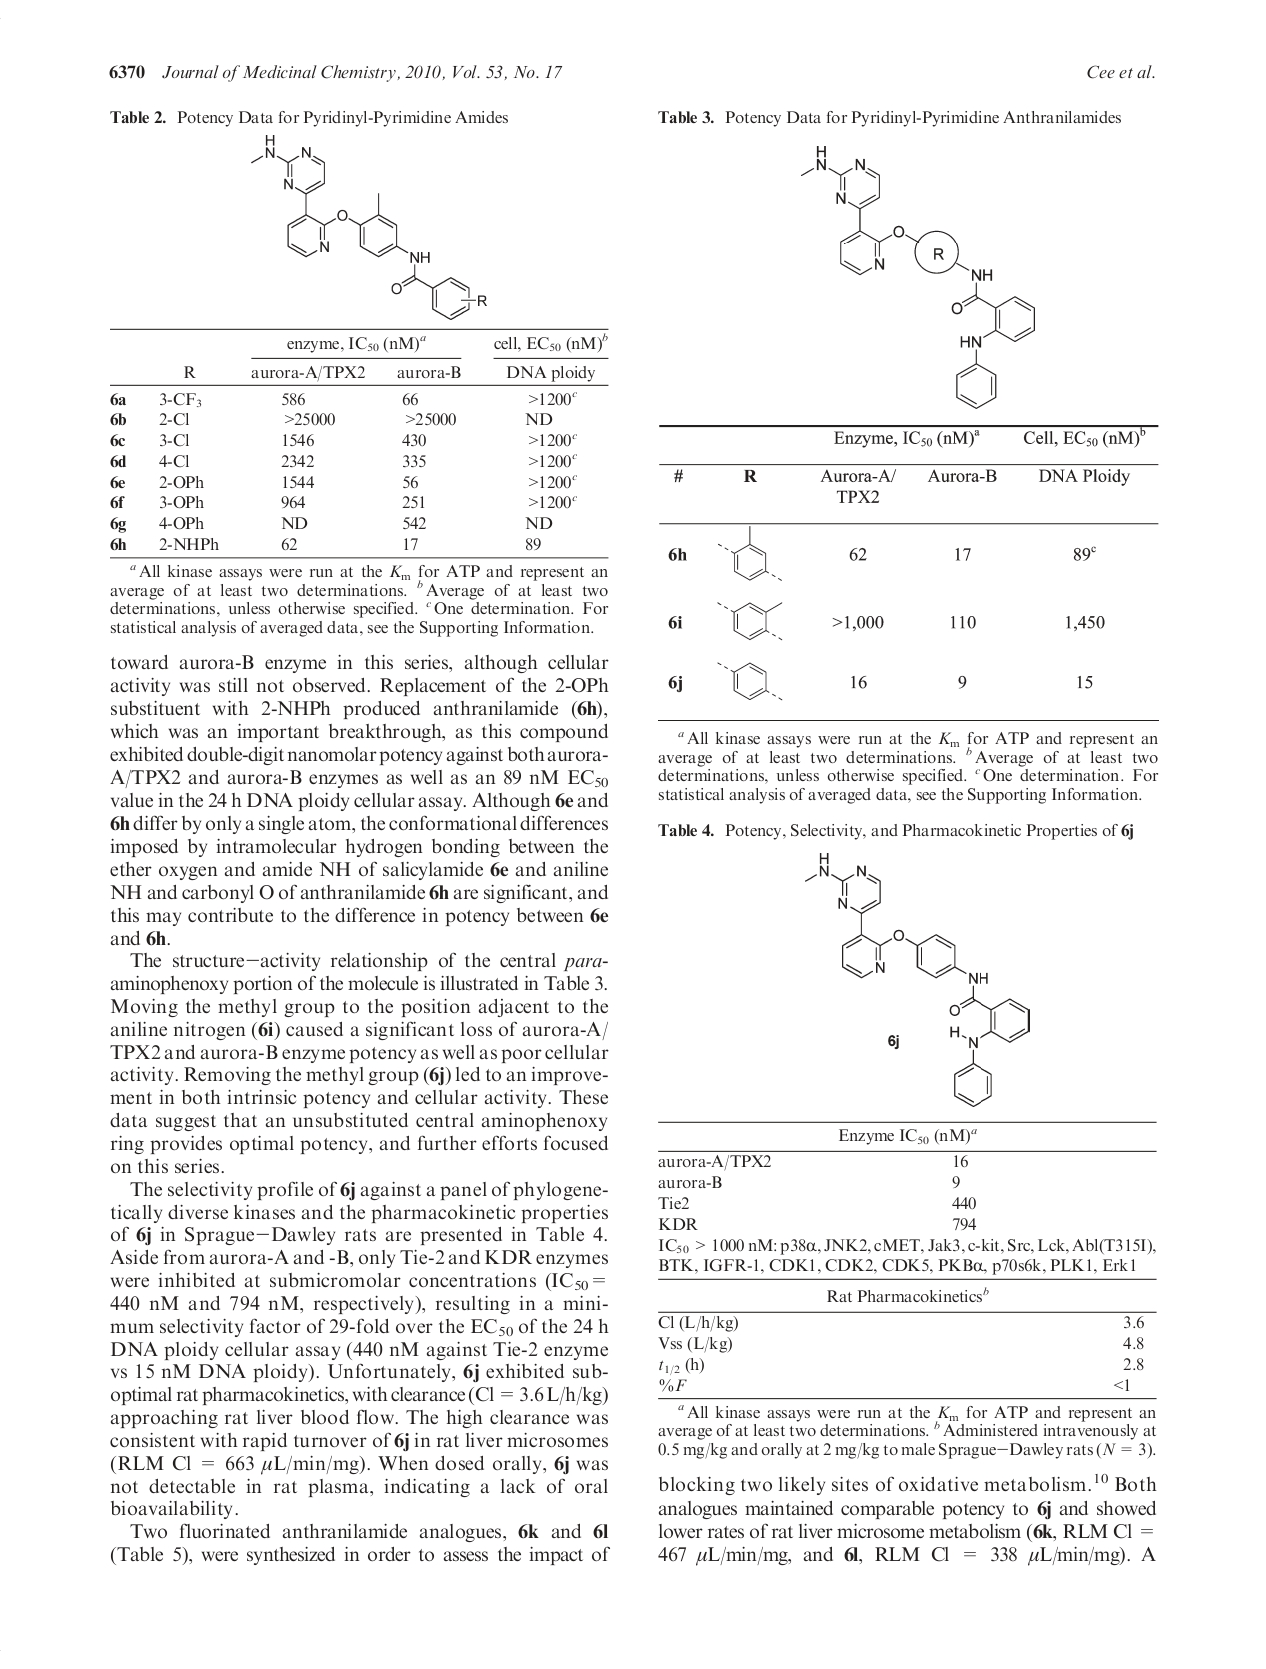exist_molecular: (797, 144, 1039, 411), (805, 851, 1033, 1108), (247, 134, 489, 323), (717, 525, 789, 582), (717, 660, 789, 704), (718, 597, 787, 642)
